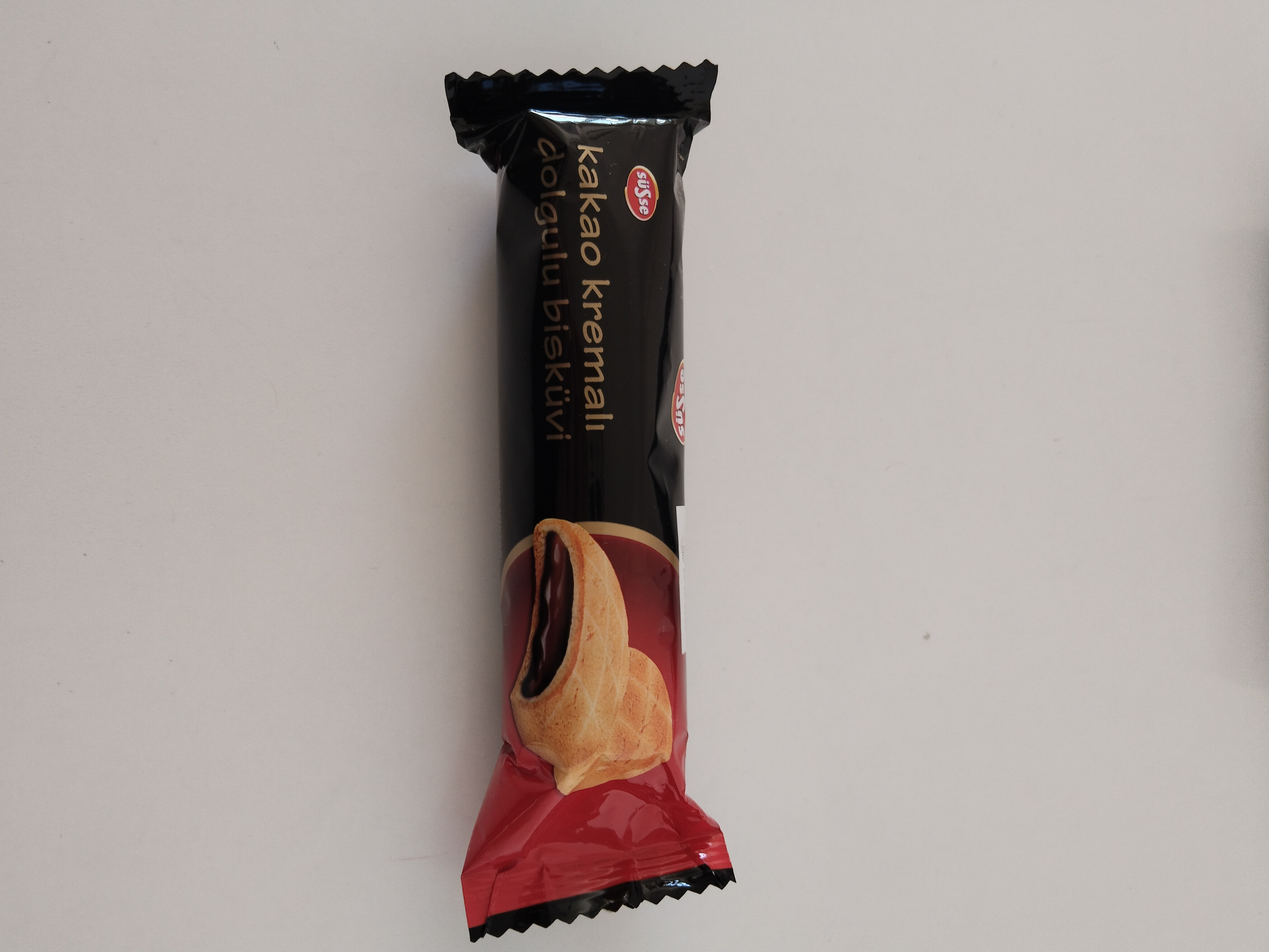pensan_mavi_tukenmez_kalem: (439, 62, 714, 928)
